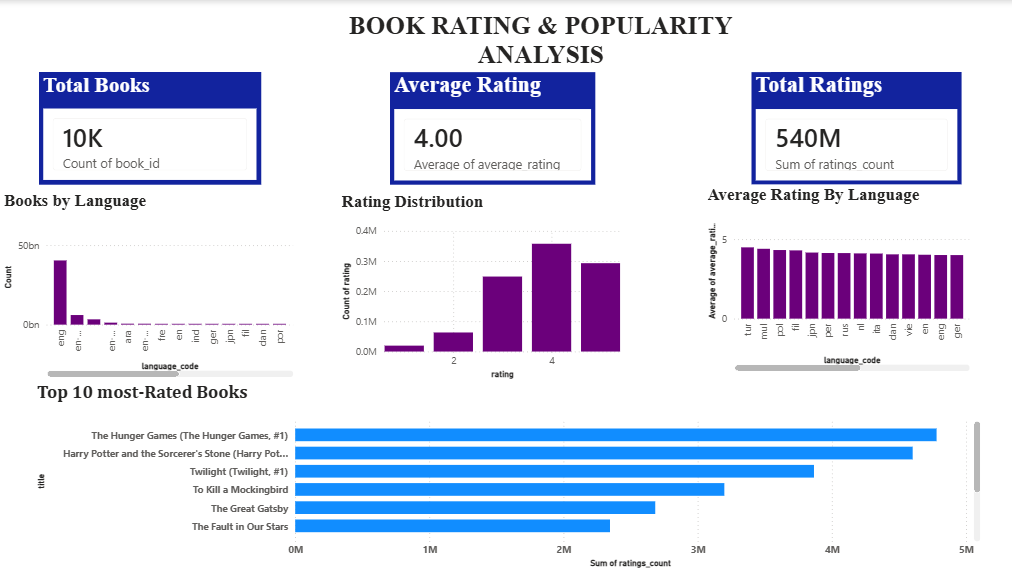

The dashboard page shown, as its layout file describes it:
{"tool":"powerbi","page":{"name":"Page 1","canvas":[1280,720],"ordinal":0},"visuals":[{"type":"cardVisual","fields":{"Data":["CountNonNull(books.book_id)"]},"box":[81.3,90.7,279.7,141.7],"z":0},{"type":"cardVisual","fields":{"Data":["Avg(books.average_rating)"]},"box":[500.8,90.7,258.9,141.7],"z":1000},{"type":"cardVisual","fields":{"Data":["Sum(books.ratings_count)"]},"box":[946.8,90.7,264.6,141.7],"z":2000},{"type":"clusteredColumnChart","title":"Books by Language","fields":{"Category":["books.language_code"],"Y":["Sum(books.book_id)"]},"box":[66.1,255.1,325,240],"z":3000},{"type":"clusteredColumnChart","fields":{"Category":["books.language_code"],"Y":["Avg(books.average_rating)"]},"box":[946.8,255.1,279.7,240],"z":4000},{"type":"clusteredColumnChart","title":"Rating Distribution","fields":{"Category":["ratings.rating"],"Y":["CountNonNull(ratings.rating)"]},"box":[491.3,255.1,294.8,240],"z":5000},{"type":"textbox","box":[391.2,7.6,495.1,83.2],"z":6000},{"type":"clusteredBarChart","title":"Top 10  most-Rated Books","fields":{"Category":["books.title"],"Y":["Sum(books.ratings_count)"]},"box":[13.2,480,1198.1,240],"z":7000}]}

Visuals, with their boxes in screenshot pixels (x1, y1, x2, y2), scaled from the page's 1280x720 canvas onto the 1012x571 screenshot:
cardVisual - CountNonNull(books.book_id): 64:72:285:184
cardVisual - Avg(books.average_rating): 396:72:601:184
cardVisual - Sum(books.ratings_count): 749:72:958:184
"Books by Language" clusteredColumnChart: 52:202:309:393
clusteredColumnChart - books.language_code x Avg(books.average_rating): 749:202:970:393
"Rating Distribution" clusteredColumnChart: 388:202:622:393
textbox: 309:6:701:72
"Top 10  most-Rated Books" clusteredBarChart: 10:381:958:570
